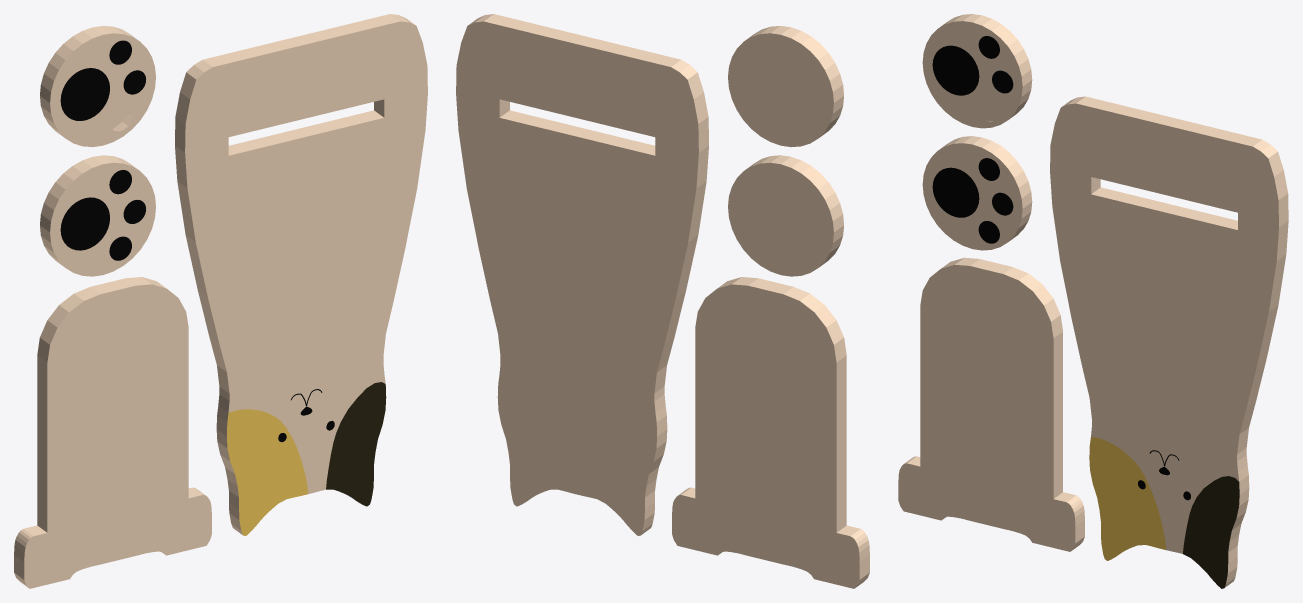
The model's file is CatPhoneHolder.obj.
The picture shows the model from 3 angles, left to right: view 1: azimuth 30°, elevation 25°; view 2: azimuth 150°, elevation 25°; view 3: azimuth 330°, elevation 25°; orthographic projection. The views are drawn at different scales.
Visible parts, largest first — view 1: Plane.001; view 2: Plane.001; view 3: Plane.001.
Part boxes in pixels (<box>): Plane.001: <box>14,14,427,588</box>; Plane.001: <box>456,14,869,588</box>; Plane.001: <box>898,14,1288,588</box>.
Size of the model in its own units: 114 by 145 by 5.
